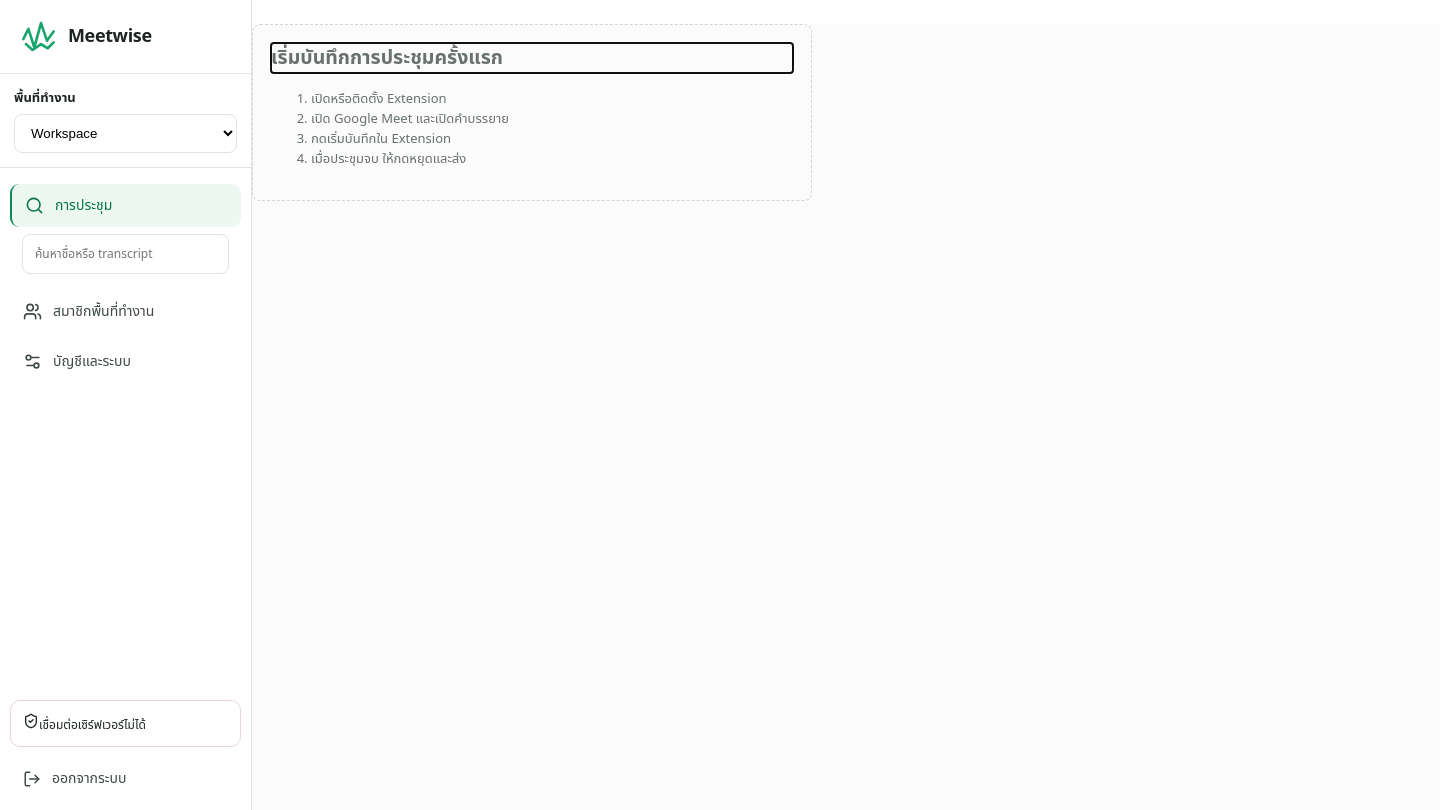
Test: dashboard authentication and role-aware UI › does not offer owner assignment or owner changes to admins
Click the button "สมาชิกพื้นที่ทำงาน": {"x": 126, "y": 312} top-left (10, 290), bottom-right (241, 333)
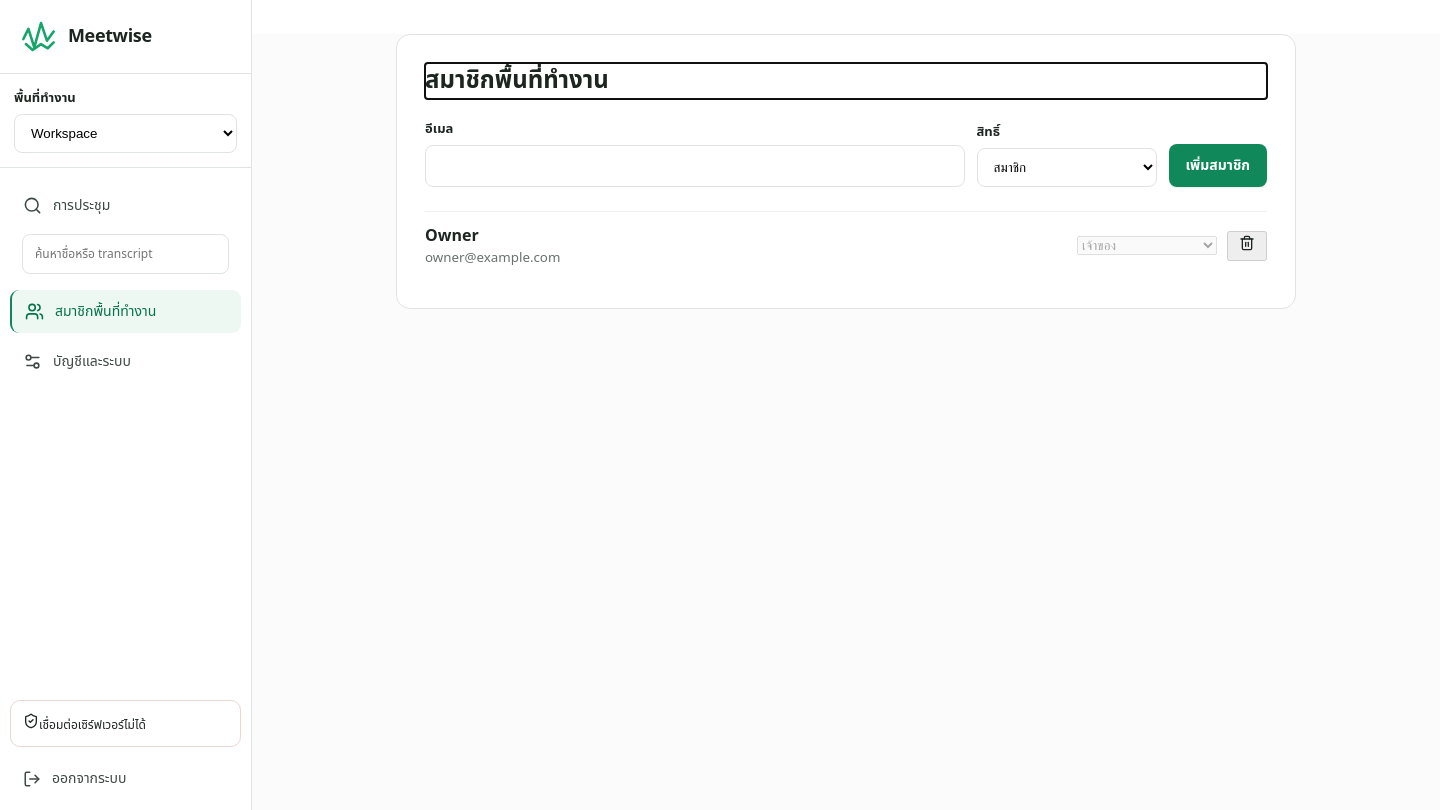
Now the dropdown named "สิทธิ์ของ owner@example.com" is disabled, box top-left (1077, 236), bottom-right (1217, 255)
Now the button named "ลบ owner@example.com" is disabled, box top-left (1227, 231), bottom-right (1267, 261)
